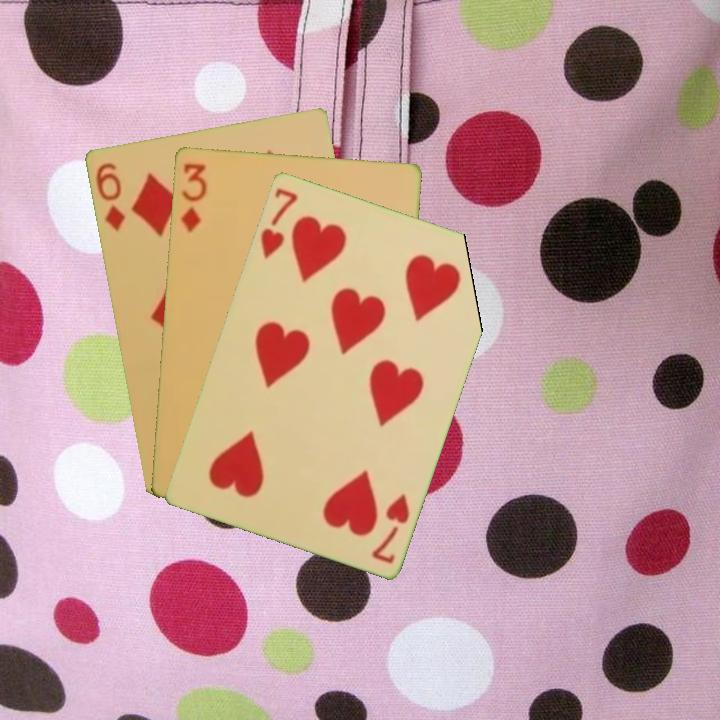3d: (177, 159, 209, 235)
6d: (91, 158, 128, 234)
7h: (368, 489, 413, 566), (256, 184, 300, 261)
